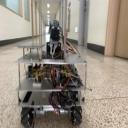cart: (14, 60, 88, 128)
